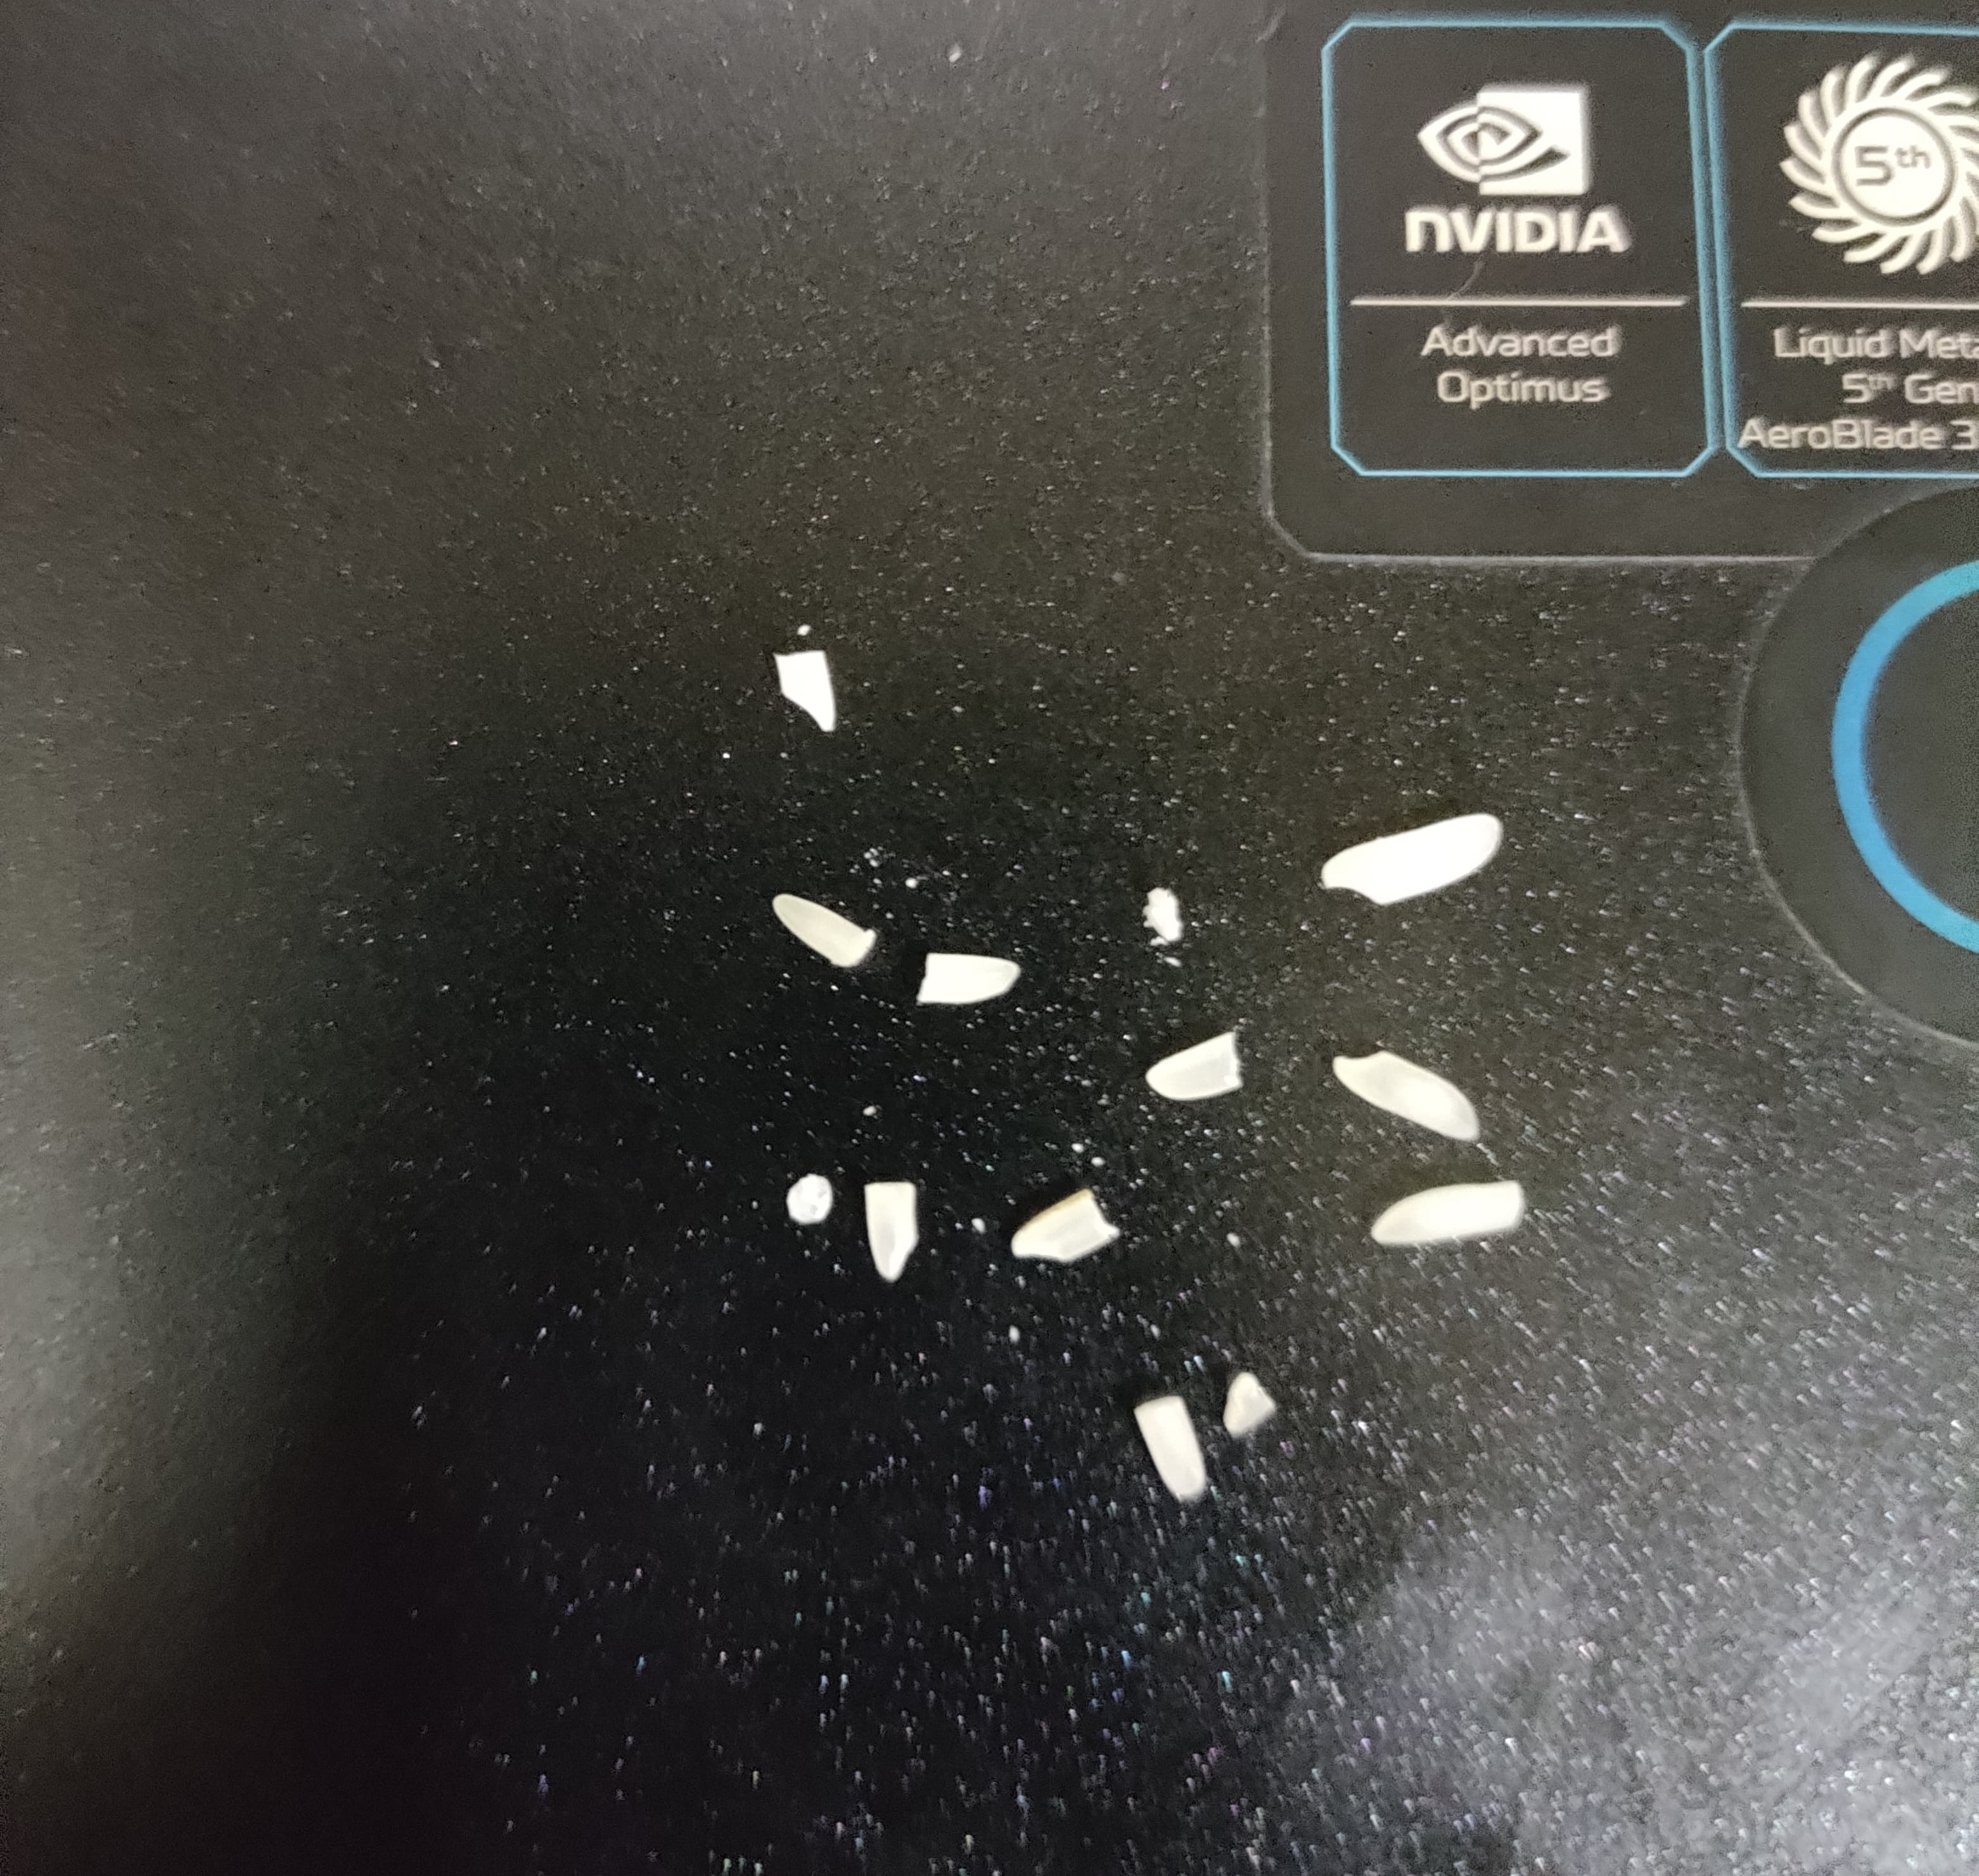broken_grain: (1368, 1171, 1551, 1267), (765, 869, 885, 983), (1124, 1383, 1214, 1521), (1001, 1180, 1131, 1273), (1135, 1023, 1256, 1119), (765, 630, 861, 750), (909, 940, 1028, 1028), (858, 1166, 932, 1298), (1213, 1367, 1285, 1446), (782, 1168, 842, 1231), (1140, 878, 1189, 950)
complete_grain: (1303, 797, 1535, 914), (1323, 1038, 1490, 1155)
